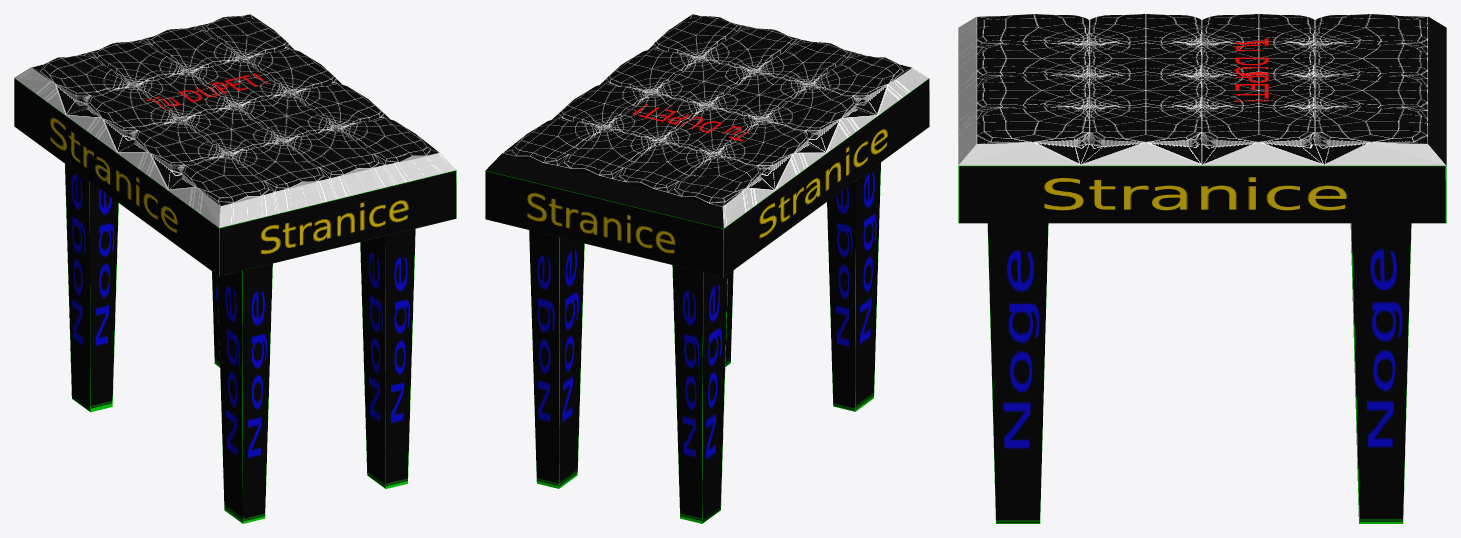
Rendered from piano_chair.FBX.
3 renders of one model, left to right at view 1: azimuth 30°, elevation 25°; view 2: azimuth 150°, elevation 25°; view 3: azimuth 270°, elevation 25°, orthographic. The views are drawn at different scales.
Visible parts, largest first — view 1: Box001; view 2: Box001; view 3: Box001.
Part boxes in pixels (box(x1,y1,x2,y2)): Box001: box(14, 14, 456, 523); Box001: box(485, 14, 929, 523); Box001: box(958, 14, 1446, 523).
Bounding box in the file's own units: 34.75 × 52.01 × 47.15.
Materials: 1 (1 with a texture image).
